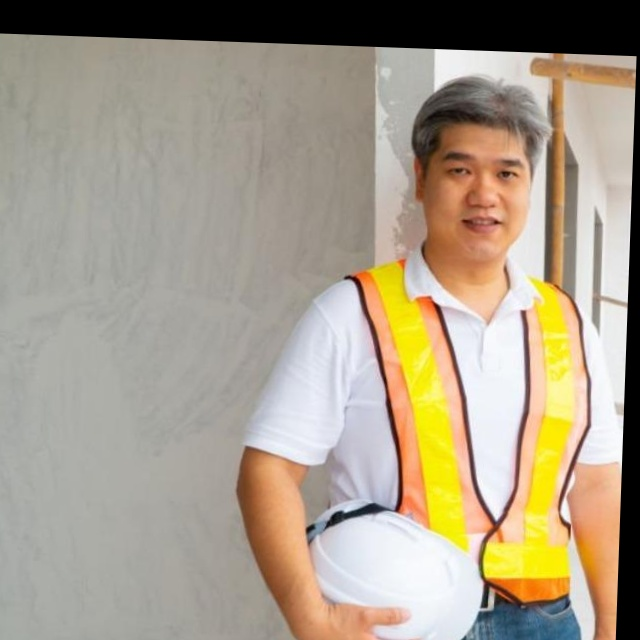Con_Chaleco: (325, 258, 597, 624)
Sin_Casco_Mascarrilla: (407, 73, 553, 261)
